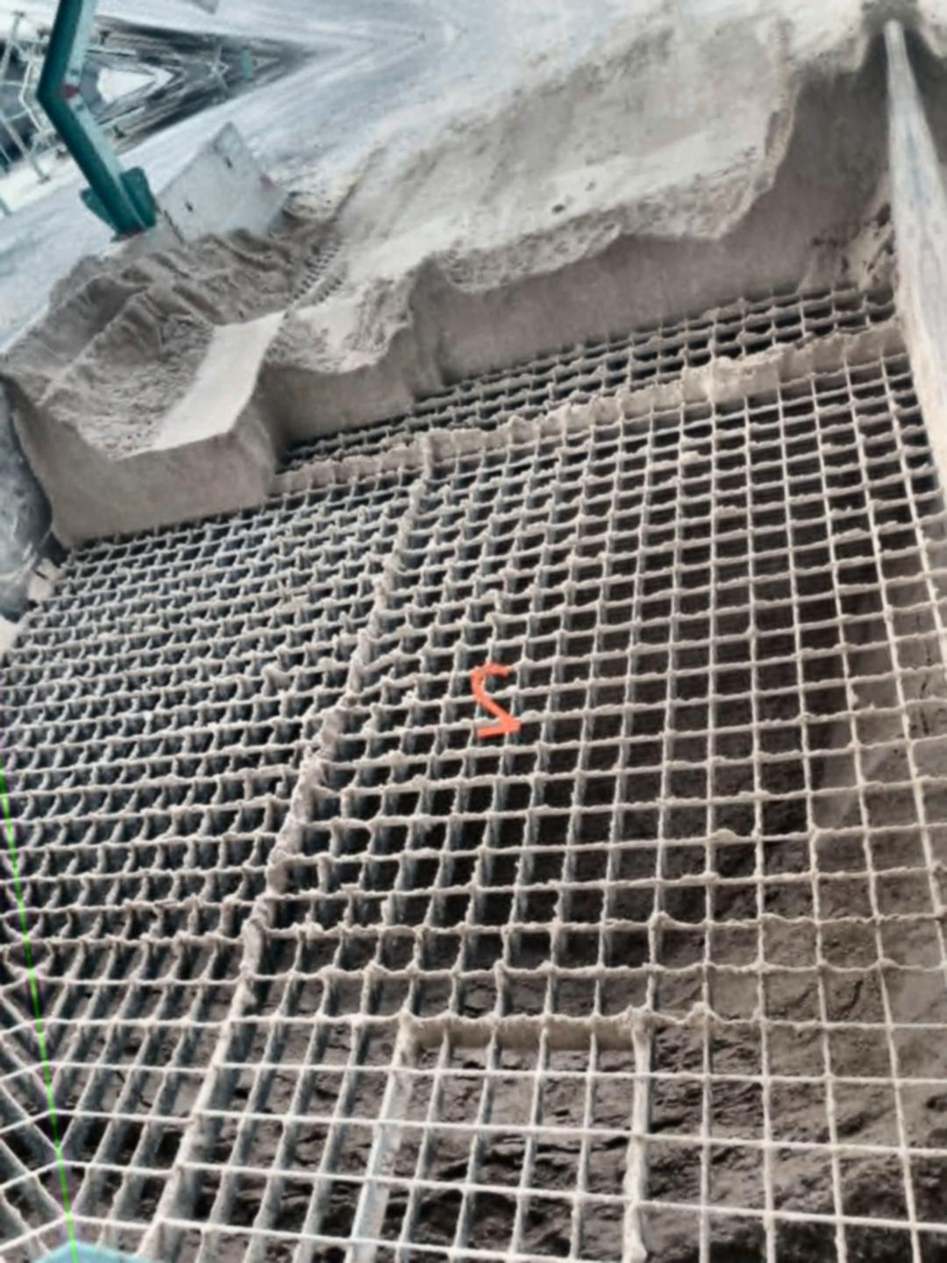sand: (0, 0, 888, 544)
